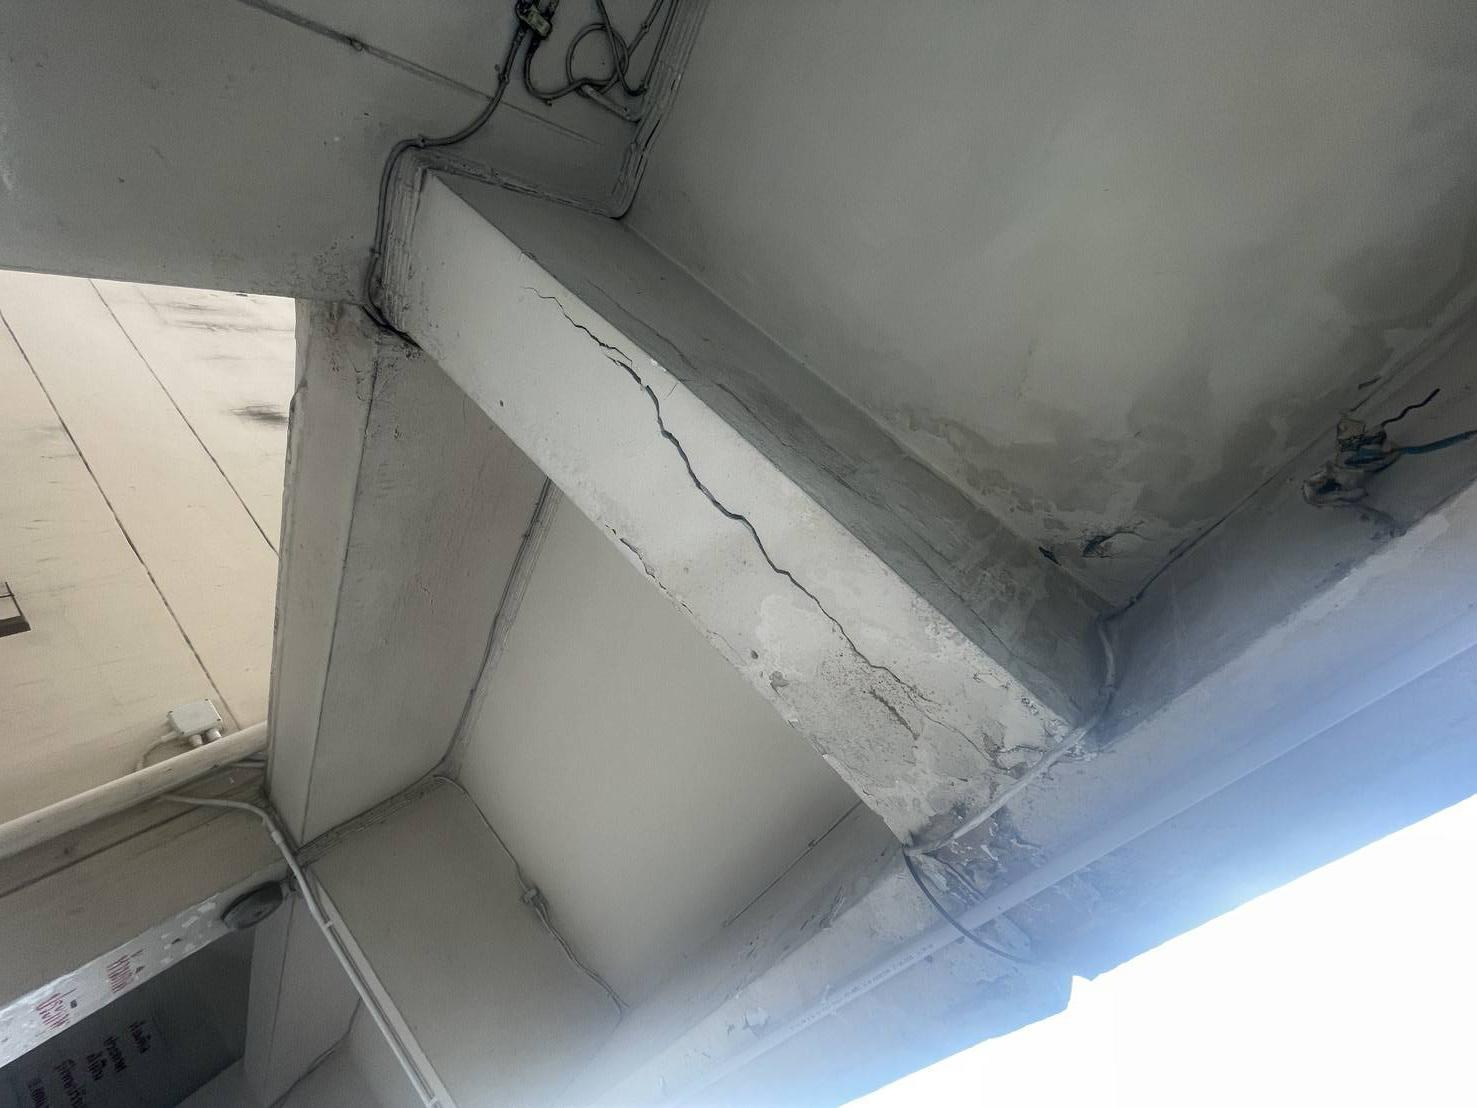High: (493, 260, 1156, 808)
